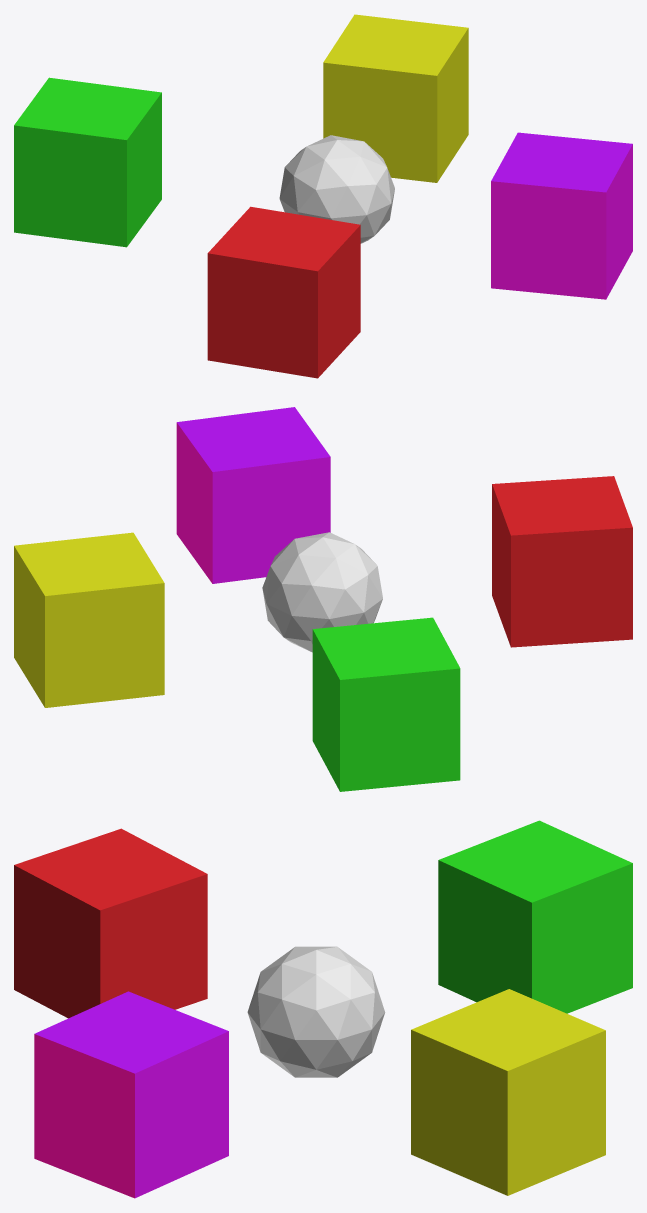
The model's file is ico.dae.
The picture shows the model from 3 angles, top to bottom: view 1: azimuth 30°, elevation 25°; view 2: azimuth 150°, elevation 25°; view 3: azimuth 270°, elevation 25°; orthographic projection. The views are drawn at different scales.
Visible parts, largest first — view 1: Cube, Cube.001, Cube.003, Cube.002, Icosphere; view 2: Cube.002, Cube.001, Cube, Cube.003, Icosphere; view 3: Cube.003, Cube.002, Cube.001, Cube, Icosphere.
Boxes of the visible parts, bbox=[...] form: Cube: bbox=[207, 206, 360, 378]; Cube.001: bbox=[14, 77, 161, 247]; Cube.003: bbox=[491, 132, 632, 299]; Cube.002: bbox=[323, 14, 468, 182]; Icosphere: bbox=[279, 135, 394, 243]; Cube.002: bbox=[14, 532, 164, 707]; Cube.001: bbox=[312, 617, 460, 791]; Cube: bbox=[492, 476, 632, 647]; Cube.003: bbox=[176, 407, 330, 583]; Icosphere: bbox=[262, 532, 382, 652]; Cube.003: bbox=[34, 991, 228, 1198]; Cube.002: bbox=[411, 989, 605, 1195]; Cube.001: bbox=[438, 820, 632, 1013]; Cube: bbox=[14, 828, 207, 1018]; Icosphere: bbox=[247, 946, 385, 1077].
Bounding box in the file's own units: 8.7 × 8.99 × 2.
